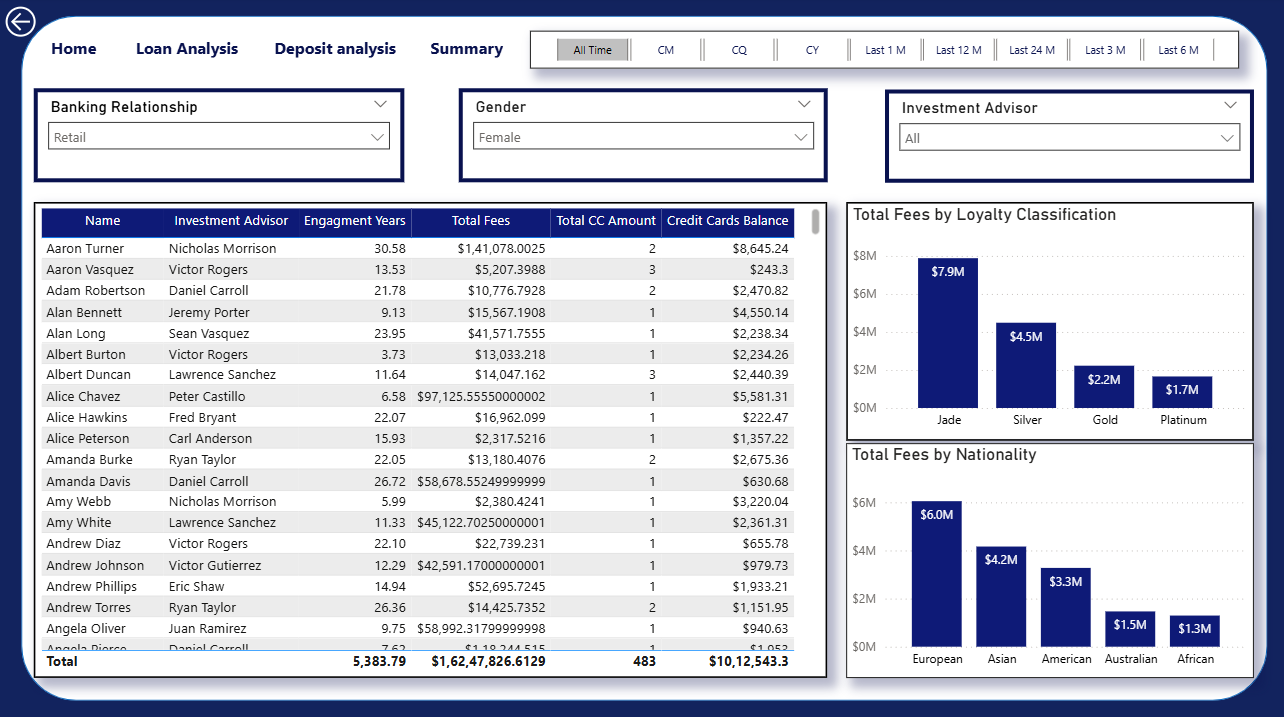

Layout of this report page (visuals, bound fields, positions):
{"tool":"powerbi","page":{"name":"Drill Through","canvas":[1280,720],"ordinal":4},"visuals":[{"type":"shape","box":[21.1,18.7,1240.2,681.7],"z":0},{"type":"actionButton","box":[125.6,29.9,120.7,39.8],"z":1000},{"type":"actionButton","box":[419.2,29.9,90.8,39.8],"z":2000},{"type":"actionButton","box":[263.7,29.9,139.3,39.8],"z":3000},{"type":"actionButton","box":[41.1,29.9,64.7,39.8],"z":4000},{"type":"slicer","fields":{"Values":["Period.Name"]},"box":[527.8,33.3,705.7,37.6],"z":5000},{"type":"slicer","fields":{"Values":["Banking Relationship.Banking Relationship"]},"box":[33.3,91.1,368.7,94],"z":6000},{"type":"slicer","fields":{"Values":["Gender.Gender"]},"box":[456.9,91.1,367.3,94],"z":7000},{"type":"slicer","fields":{"Values":["Investment Advisor.Investment Advisor"]},"box":[880.6,92.5,367.3,92.5],"z":8000},{"type":"actionButton","box":[0,0,41.1,49.8],"z":9000},{"type":"tableEx","fields":{"Values":["Banking.Name","Investment Advisor.Investment Advisor","Dax Measures.Engagment Years","Dax Measures.Total Fees","Dax Measures.Total CC Amount","Dax Measures.Credit Cards Balance"]},"box":[33.6,204,789.9,473.9],"z":10000},{"type":"columnChart","fields":{"Category":["Banking.Loyalty Classification"],"Y":["Dax Measures.Total Fees"]},"box":[842.2,204,405.5,237.6],"z":11000},{"type":"columnChart","fields":{"Category":["Banking.Nationality"],"Y":["Dax Measures.Total Fees"]},"box":[842.2,444.1,405.5,233.9],"z":12000}]}

Visuals, with their boxes in screenshot pixels (x1, y1, x2, y2), scaled from the page's 1280x720 canvas onto the 1284x717 screenshot:
shape: 21:19:1265:697
actionButton: 126:30:247:69
actionButton: 421:30:512:69
actionButton: 265:30:404:69
actionButton: 41:30:106:69
slicer - Period.Name: 529:33:1237:71
slicer - Banking Relationship.Banking Relationship: 33:91:403:184
slicer - Gender.Gender: 458:91:827:184
slicer - Investment Advisor.Investment Advisor: 883:92:1252:184
actionButton: 0:0:41:50
tableEx - Banking.Name x Investment Advisor.Investment Advisor: 34:203:826:675
columnChart - Banking.Loyalty Classification x Dax Measures.Total Fees: 845:203:1252:440
columnChart - Banking.Nationality x Dax Measures.Total Fees: 845:442:1252:675
